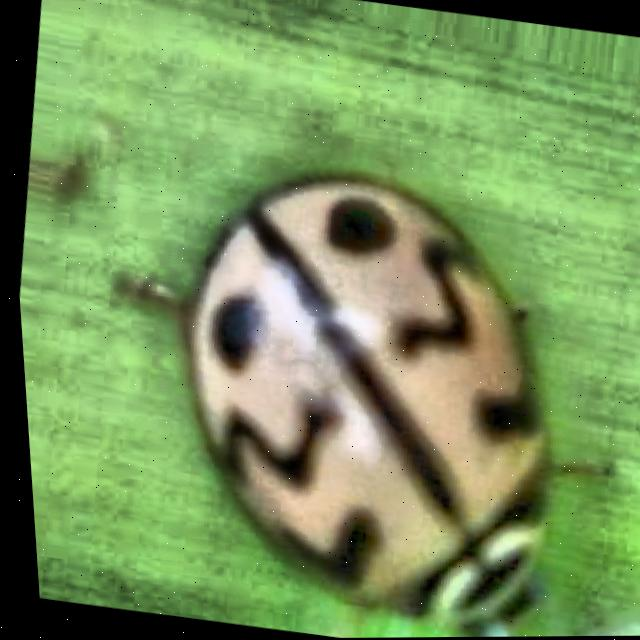Asian-Lady-beetle: (30, 108, 640, 640)
